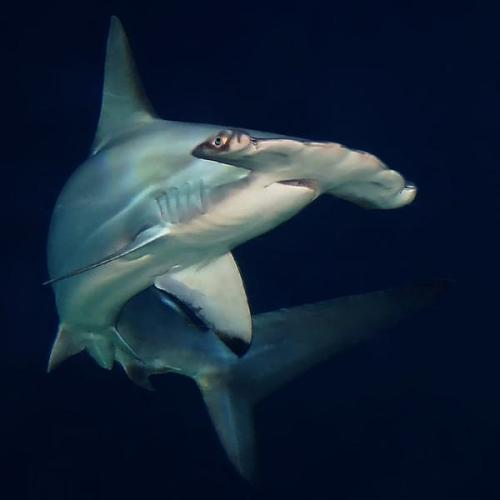shark-endangered: (45, 18, 421, 473)
